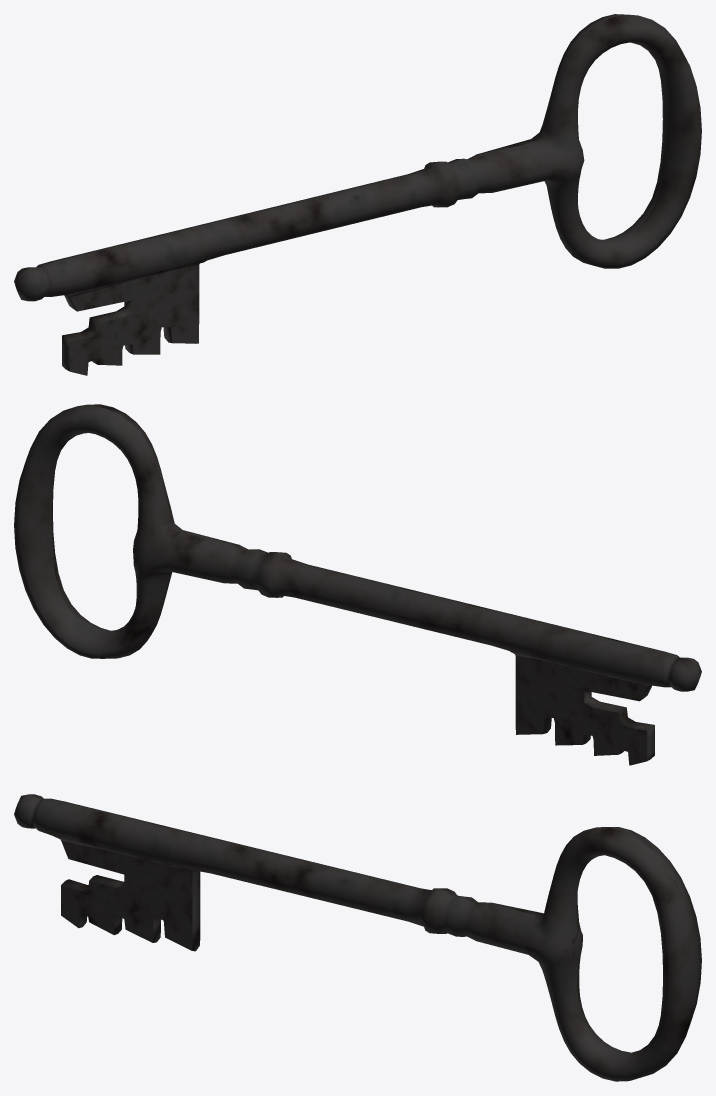
3 views of the same model, one above another, from view 1: azimuth 30°, elevation 25°; view 2: azimuth 150°, elevation 25°; view 3: azimuth 330°, elevation 25° (orthographic).
Parts seen in each view (by area): view 1: Old Key; view 2: Old Key; view 3: Old Key.
Boxes of the visible parts, bbox=[...] form: Old Key: bbox=[14, 14, 701, 375]; Old Key: bbox=[14, 404, 701, 765]; Old Key: bbox=[14, 794, 701, 1081].
Bounding box in the file's own units: 762 × 267 × 59.47.
Materials: 1 (1 with a texture image).
